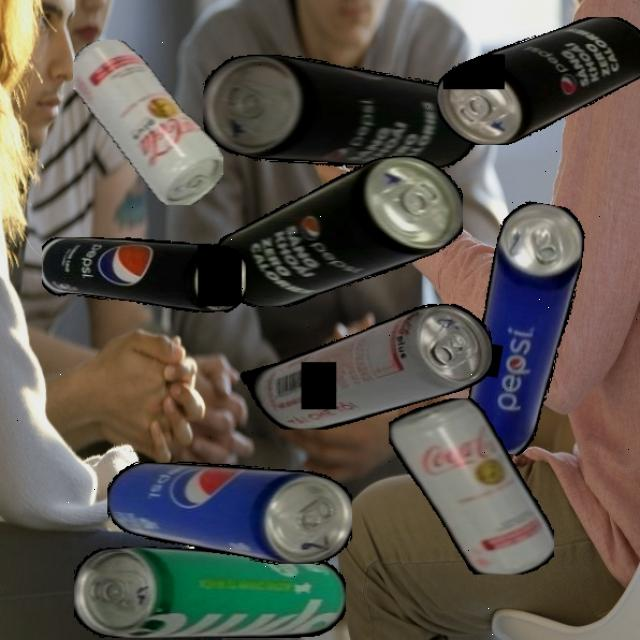debris: (216, 156, 463, 307), (460, 198, 590, 460), (239, 304, 492, 429), (203, 54, 478, 168), (388, 398, 554, 574), (437, 16, 640, 145), (106, 462, 352, 565), (74, 545, 346, 638), (73, 39, 223, 205), (41, 238, 246, 312)
